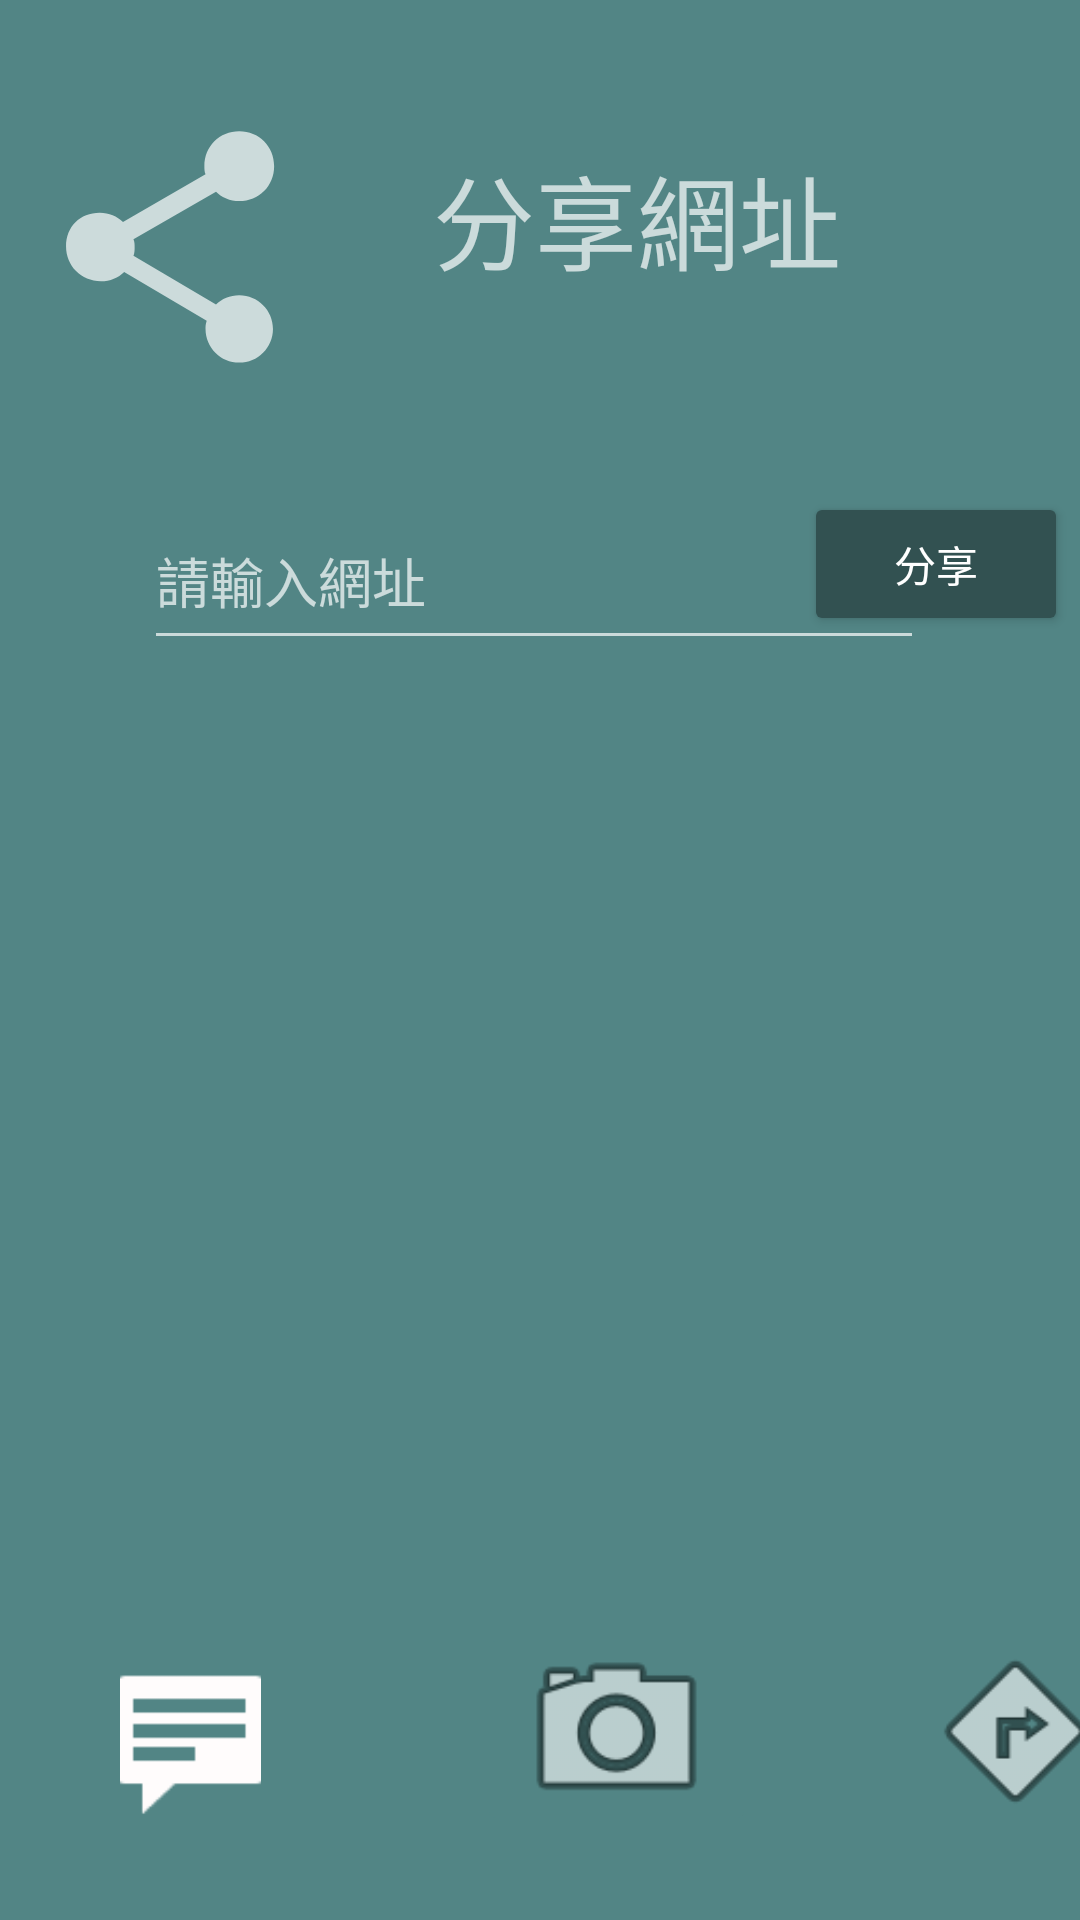

Point at icon controls on the screen. Image size 1080px x 1920px, points as [x,y].
camera: [616,1726]
chat: [190,1744]
